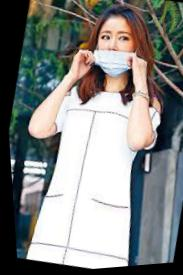WRONG: (86, 19, 150, 86)
